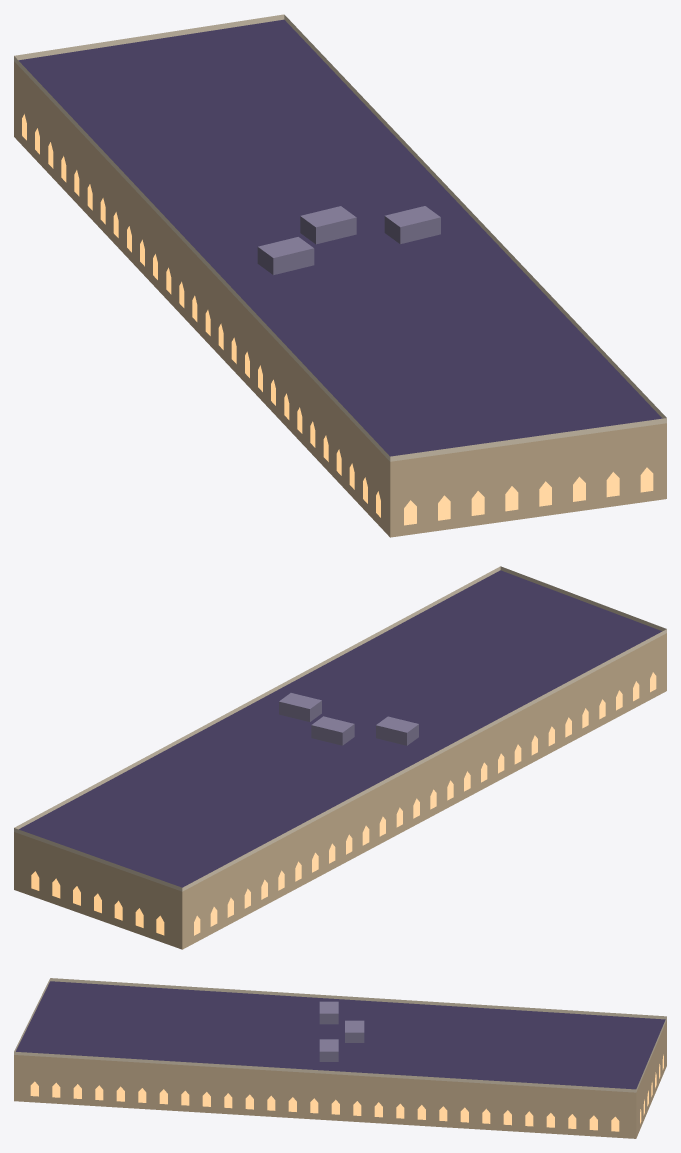
3 views of the same model, one above another, from view 1: azimuth 30°, elevation 25°; view 2: azimuth 150°, elevation 25°; view 3: azimuth 270°, elevation 25° (orthographic). The views are drawn at different scales.
Visible parts, largest first — view 1: campus/b-106-0; view 2: campus/b-106-0; view 3: campus/b-106-0.
Boxes of the visible parts, left/top/right/bottom form: campus/b-106-0: left=14, top=14, right=666, bottom=537; campus/b-106-0: left=14, top=566, right=666, bottom=949; campus/b-106-0: left=14, top=978, right=666, bottom=1138.
Size of the model in its own units: 41.27 by 9.8 by 102.
